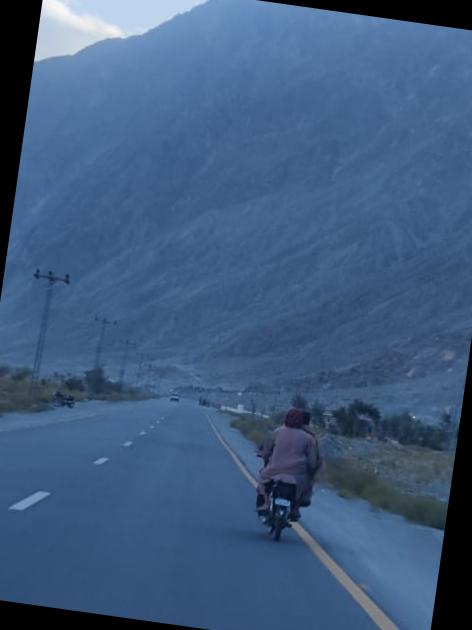sharp_turn: (0, 335, 336, 630)
